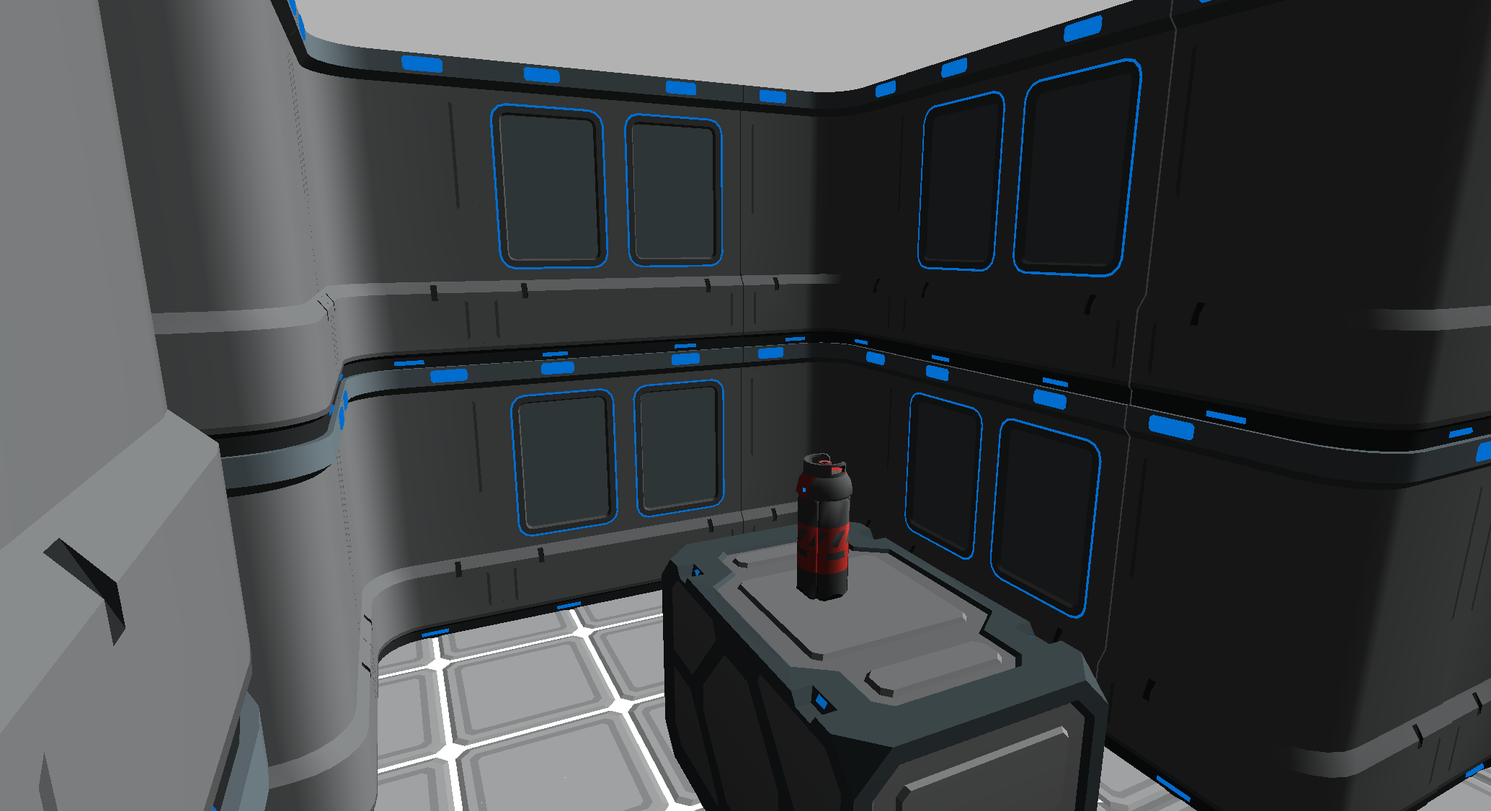red_barrel: (797, 454, 852, 600)
